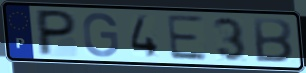3: (212, 16, 249, 63)
4: (129, 14, 161, 59)
B: (252, 16, 295, 65)
E: (164, 13, 210, 62)
G: (81, 11, 121, 59)
P: (36, 8, 78, 57)
